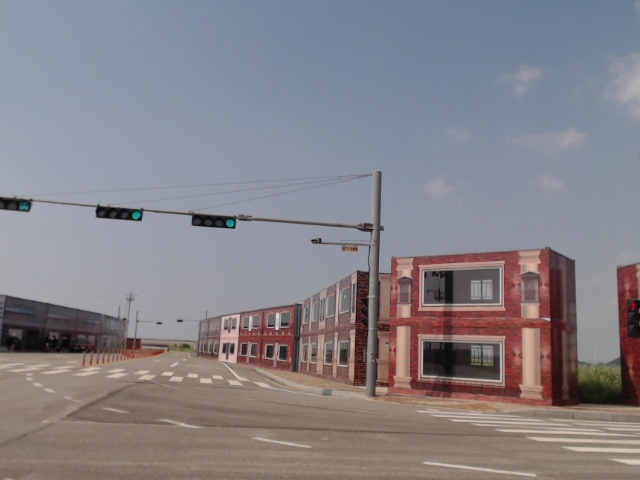straight_green_4: (192, 211, 237, 229), (97, 205, 144, 221)
